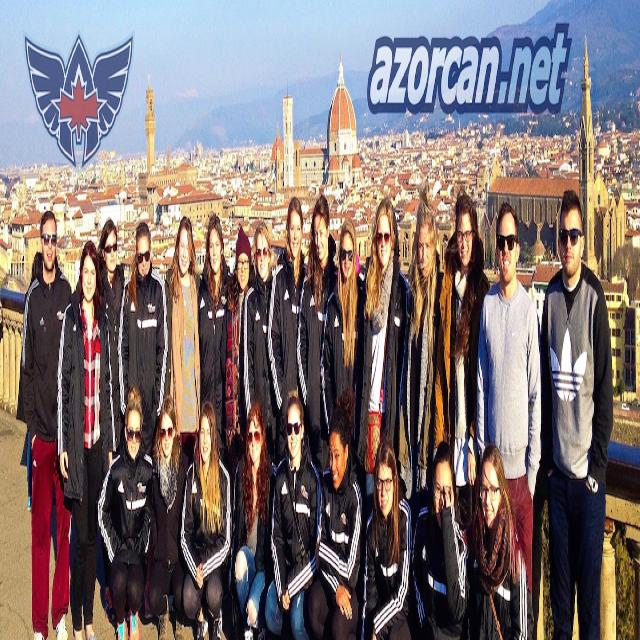body: (538, 184, 614, 639), (48, 491, 245, 638), (474, 198, 542, 607), (355, 192, 417, 622), (56, 238, 117, 640), (20, 206, 73, 639), (432, 184, 491, 556), (400, 177, 445, 528), (95, 380, 154, 639), (263, 387, 321, 640), (307, 380, 363, 640), (357, 429, 422, 639), (178, 396, 234, 639), (116, 218, 170, 463), (468, 443, 535, 639), (240, 218, 276, 571), (265, 195, 311, 470), (297, 192, 339, 482), (411, 438, 470, 640), (227, 401, 277, 638), (319, 217, 365, 468), (163, 213, 202, 467), (148, 392, 190, 621), (198, 211, 232, 474), (96, 215, 126, 452), (20, 250, 44, 513), (227, 223, 252, 444)
